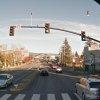Traffic light: (6, 21, 54, 41)
